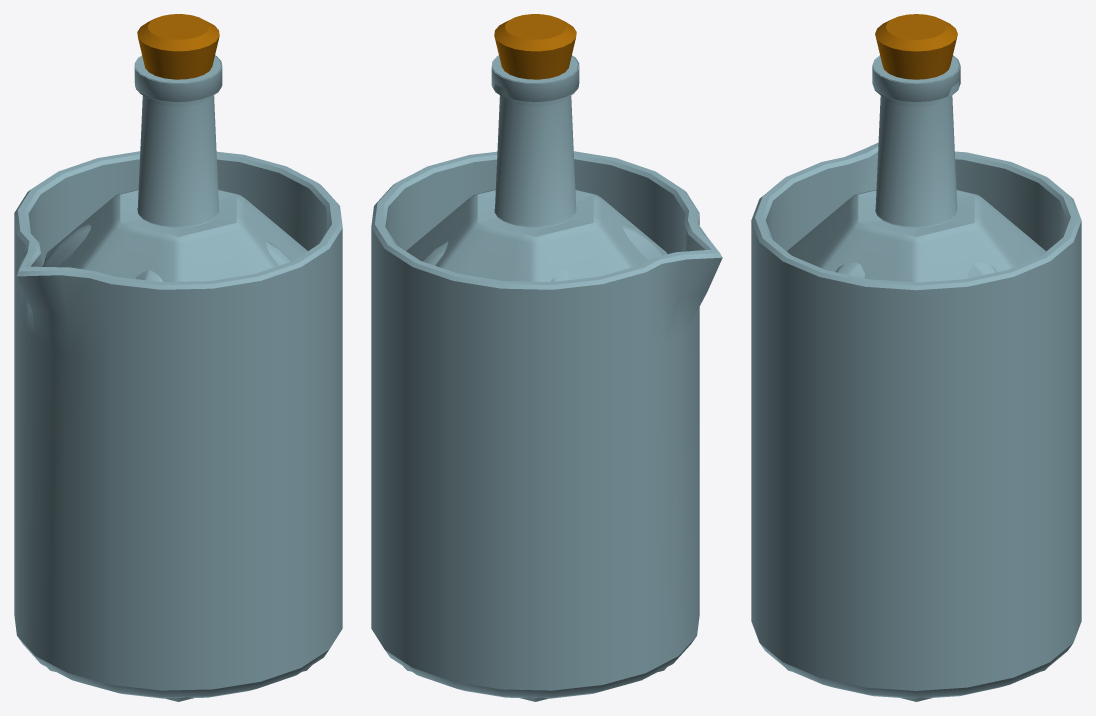
File: BottlesAndBeaker.fbx
The picture shows the model from 3 angles, left to right: view 1: azimuth 30°, elevation 25°; view 2: azimuth 150°, elevation 25°; view 3: azimuth 270°, elevation 25°; orthographic projection.
Visible parts, largest first — view 1: BeakerBottle, BloodBottle, SulfurBottle, BloodCork, WaterBottle; view 2: BeakerBottle, BloodBottle, SulfurBottle, BloodCork, WaterBottle; view 3: BeakerBottle, BloodBottle, SulfurBottle, BloodCork, WaterBottle.
Boxes of the visible parts, x1,y1,x2,y2 form: BeakerBottle: (14,151,342,698); BloodBottle: (43,87,311,701); SulfurBottle: (135,55,221,226); BloodCork: (137,14,219,79); WaterBottle: (42,55,291,281); BeakerBottle: (371,151,722,698); BloodBottle: (403,87,666,701); SulfurBottle: (492,55,578,226); BloodCork: (494,14,576,79); WaterBottle: (422,55,663,281); BeakerBottle: (751,142,1081,697); BloodBottle: (786,90,1046,701); SulfurBottle: (873,55,959,226); BloodCork: (875,14,957,79); WaterBottle: (835,55,997,278).
Size of the model in its own units: 17.46 by 32.19 by 15.73.
